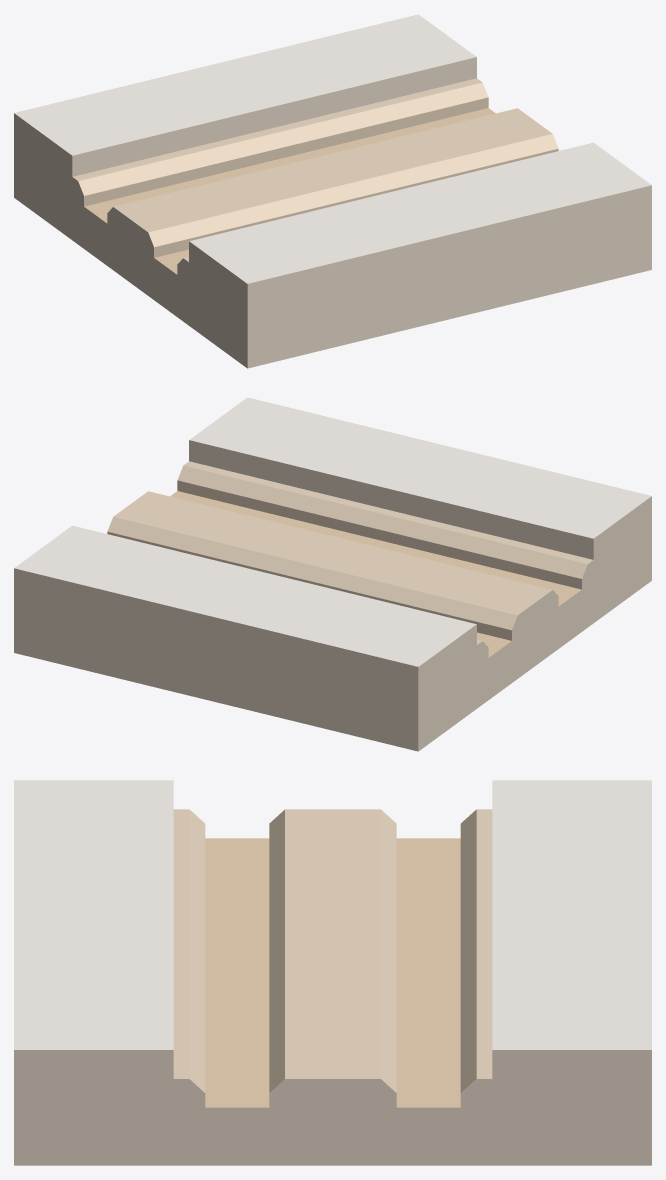
File: Puzzle_Track_Standard_Straight.glb
3 renders of one model, top to bottom at view 1: azimuth 30°, elevation 25°; view 2: azimuth 150°, elevation 25°; view 3: azimuth 270°, elevation 25°, orthographic. The views are drawn at different scales.
Visible parts, largest first — view 1: Puzzle_Track_Standard_Straight; view 2: Puzzle_Track_Standard_Straight; view 3: Puzzle_Track_Standard_Straight.
Boxes of the visible parts, x1,y1,x2,y2 form: Puzzle_Track_Standard_Straight: [14, 14, 651, 368]; Puzzle_Track_Standard_Straight: [14, 397, 651, 751]; Puzzle_Track_Standard_Straight: [14, 780, 651, 1165].
Size of the model in its own units: 1 by 0.2 by 1.
